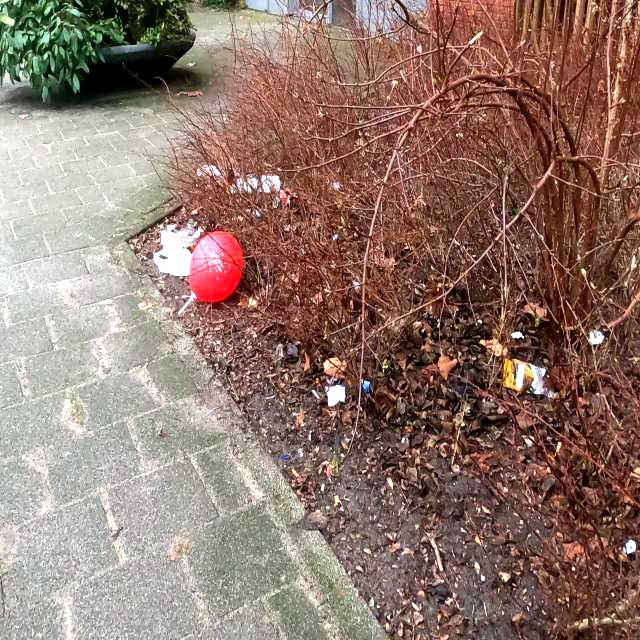Metal: (272, 187, 296, 209)
Paper: (502, 357, 558, 397), (160, 218, 206, 248), (154, 246, 192, 276), (326, 383, 346, 407)
